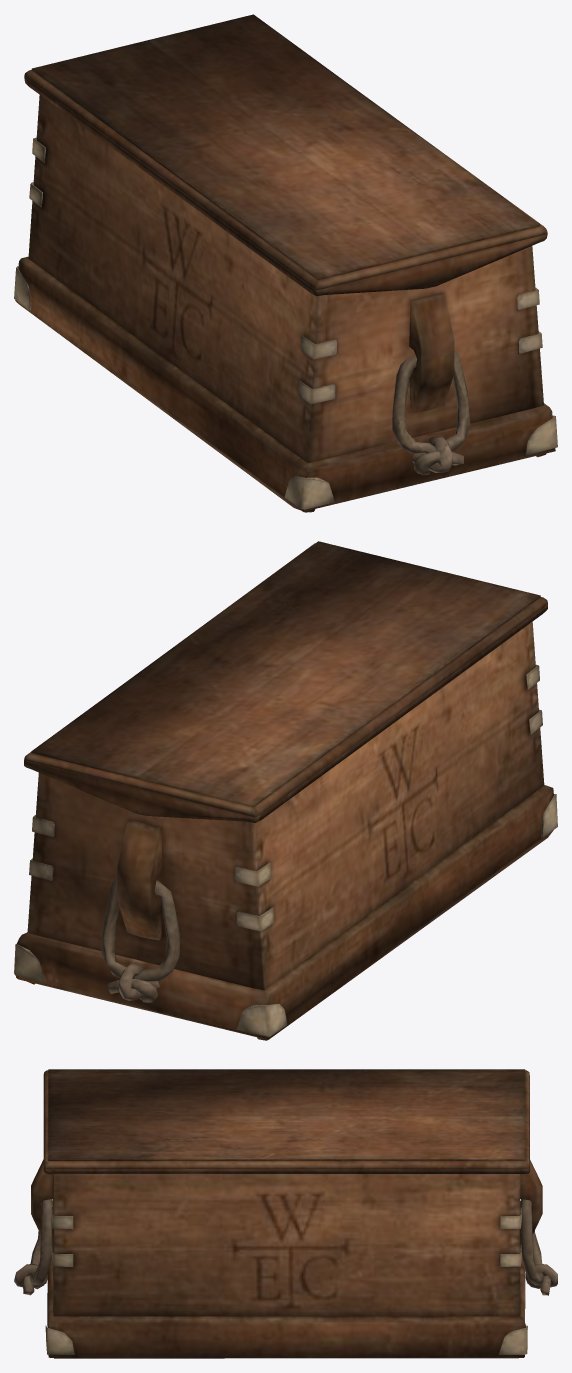
Rendered from wooden_crate_02.gltf.
3 renders of one model, top to bottom at view 1: azimuth 30°, elevation 25°; view 2: azimuth 150°, elevation 25°; view 3: azimuth 270°, elevation 25°, orthographic. The views are drawn at different scales.
Parts seen in each view (by area): view 1: wooden_crate_02_crate, wooden_crate_02_lid; view 2: wooden_crate_02_crate, wooden_crate_02_lid; view 3: wooden_crate_02_crate, wooden_crate_02_lid.
Part boxes in pixels (box(x1,y1,x2,y2)): wooden_crate_02_crate: box(14, 95, 557, 512); wooden_crate_02_lid: box(24, 14, 547, 296); wooden_crate_02_crate: box(14, 622, 557, 1040); wooden_crate_02_lid: box(24, 541, 547, 822); wooden_crate_02_crate: box(14, 1159, 557, 1358); wooden_crate_02_lid: box(43, 1069, 529, 1174).
Size of the model in its own units: 0.5291 by 0.464 by 1.16.
Materials: 1 (1 with a texture image).
